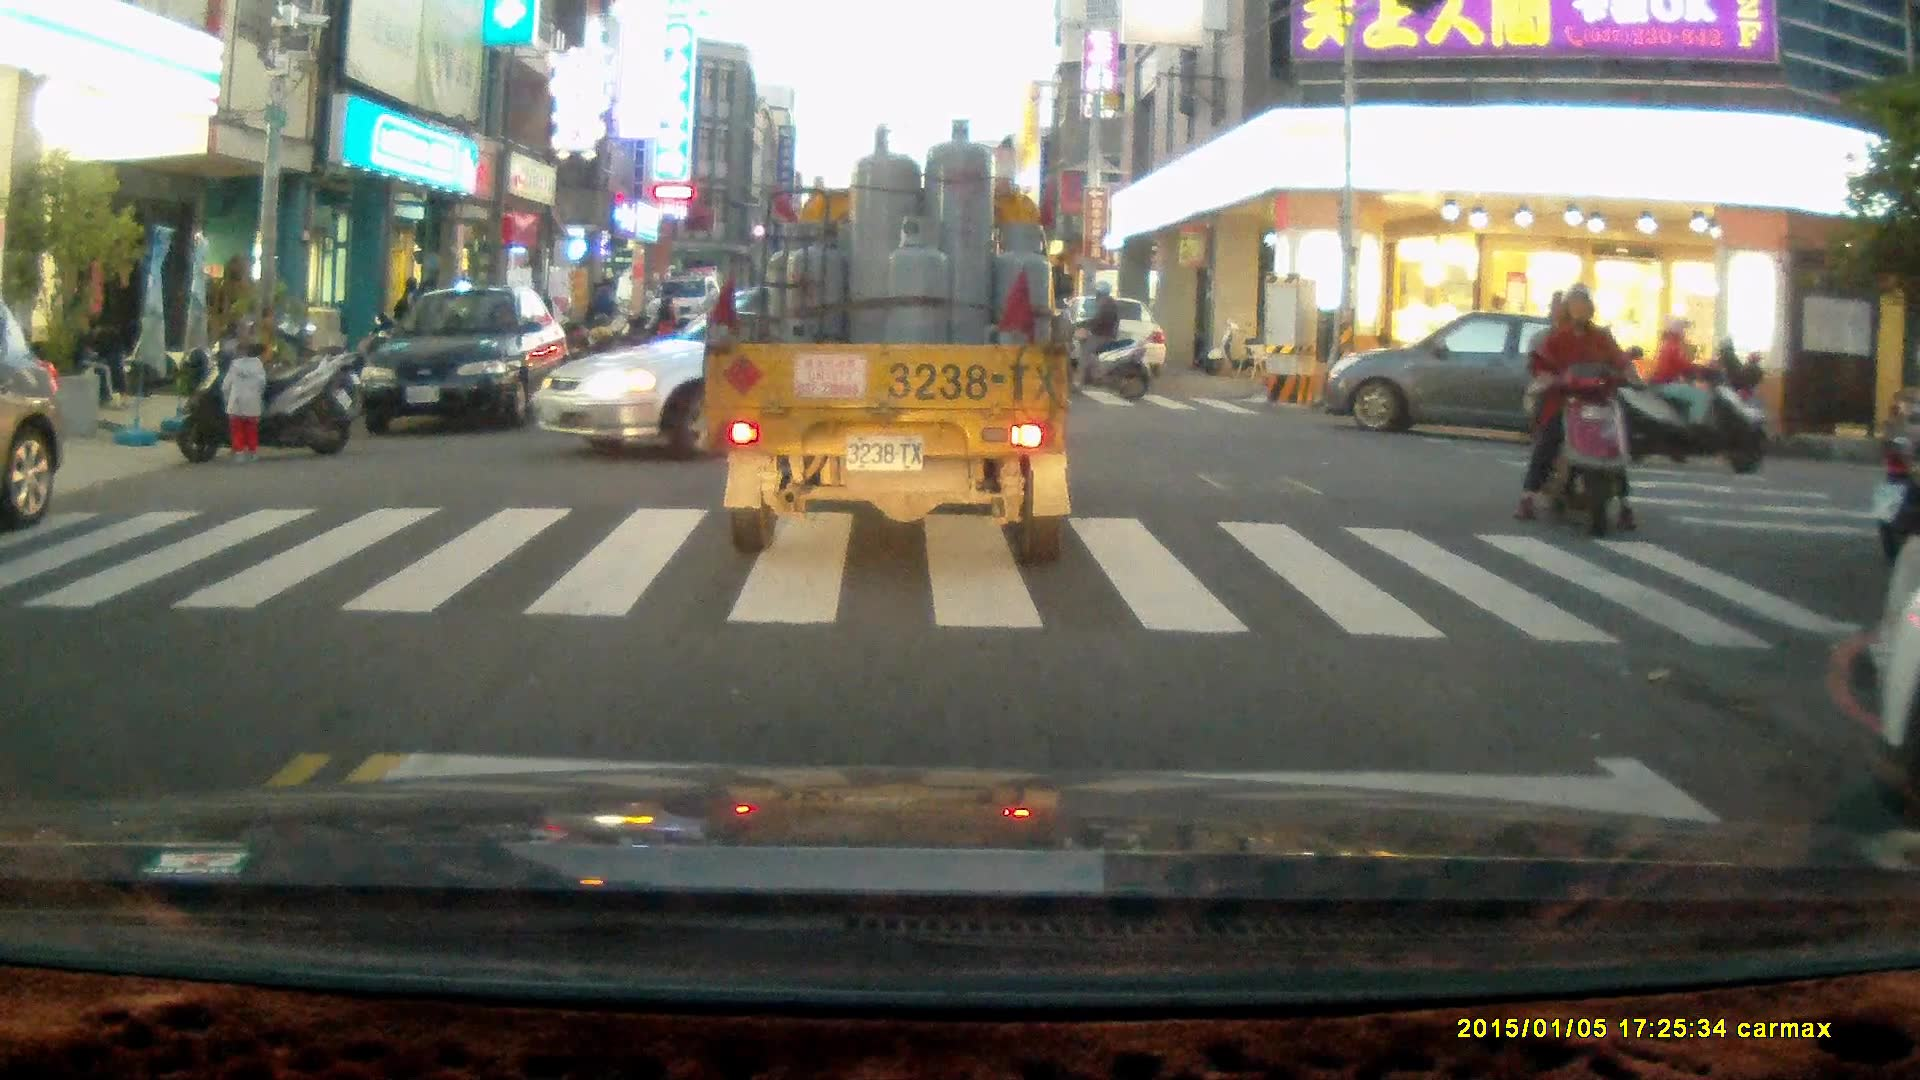pedestrian: (216, 338, 270, 465), (592, 277, 619, 339), (654, 284, 679, 342)
rider: (1510, 285, 1635, 538), (1620, 313, 1764, 471), (1651, 339, 1765, 459), (1055, 281, 1150, 402)
vehicle: (705, 119, 1073, 561), (528, 282, 1039, 453), (1312, 310, 1637, 466), (351, 286, 571, 437), (1067, 297, 1169, 383), (647, 278, 727, 332)
